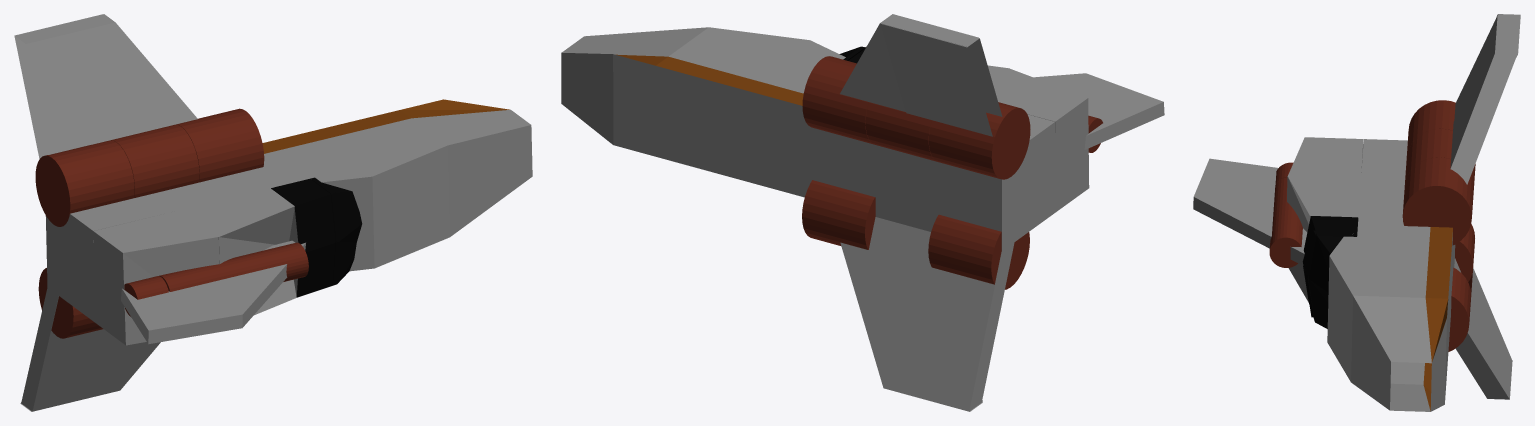
The model's file is bsg.obj.
The picture shows the model from 3 angles, left to right: view 1: azimuth 30°, elevation 25°; view 2: azimuth 150°, elevation 25°; view 3: azimuth 270°, elevation 25°; orthographic projection. The views are drawn at different scales.
Size of the model in its own units: 6.2 by 4.52 by 3.87.
